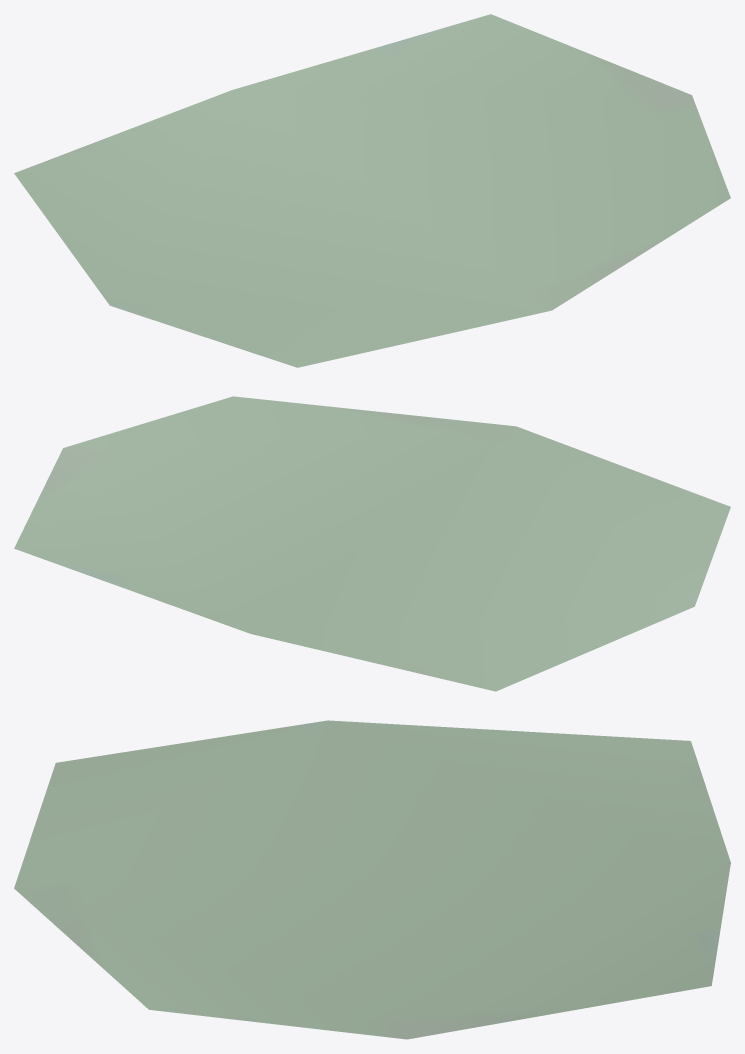
The model's file is TROLLHOLE02_HOLECAP45.fbx.
3 renders of one model, top to bottom at view 1: azimuth 30°, elevation 25°; view 2: azimuth 150°, elevation 25°; view 3: azimuth 270°, elevation 25°, orthographic. The views are drawn at different scales.
Parts seen in each view (by area): view 1: TROLLHOLE02_HOLECAP45; view 2: TROLLHOLE02_HOLECAP45; view 3: TROLLHOLE02_HOLECAP45.
Boxes of the visible parts, left/top/right/bottom form: TROLLHOLE02_HOLECAP45: left=14, top=14, right=730, bottom=367; TROLLHOLE02_HOLECAP45: left=14, top=396, right=730, bottom=691; TROLLHOLE02_HOLECAP45: left=14, top=720, right=730, bottom=1039.
Size of the model in its own units: 22332 by 1524 by 18623.
1 material, 1 textured.
